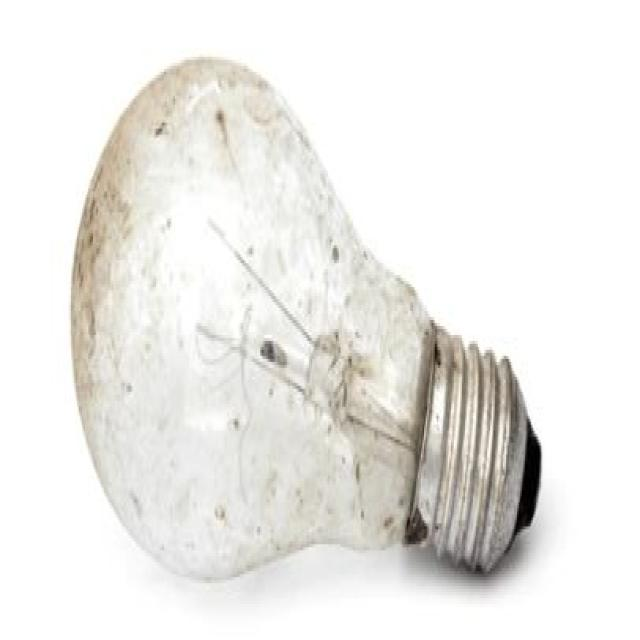electronic: (70, 51, 542, 583)
